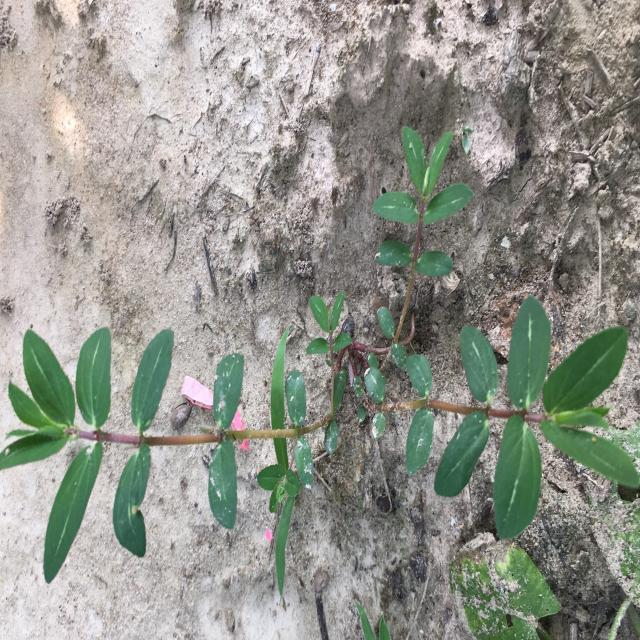SpottedSpurge: (0, 127, 640, 586)
